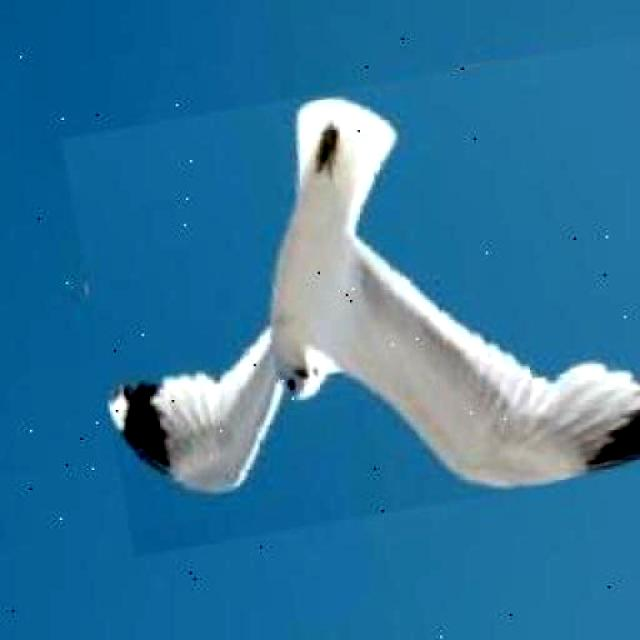airplane: (61, 32, 640, 556)
